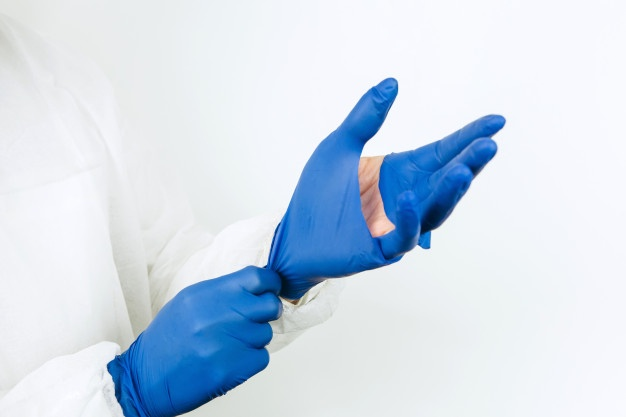defected: (279, 72, 515, 291)
